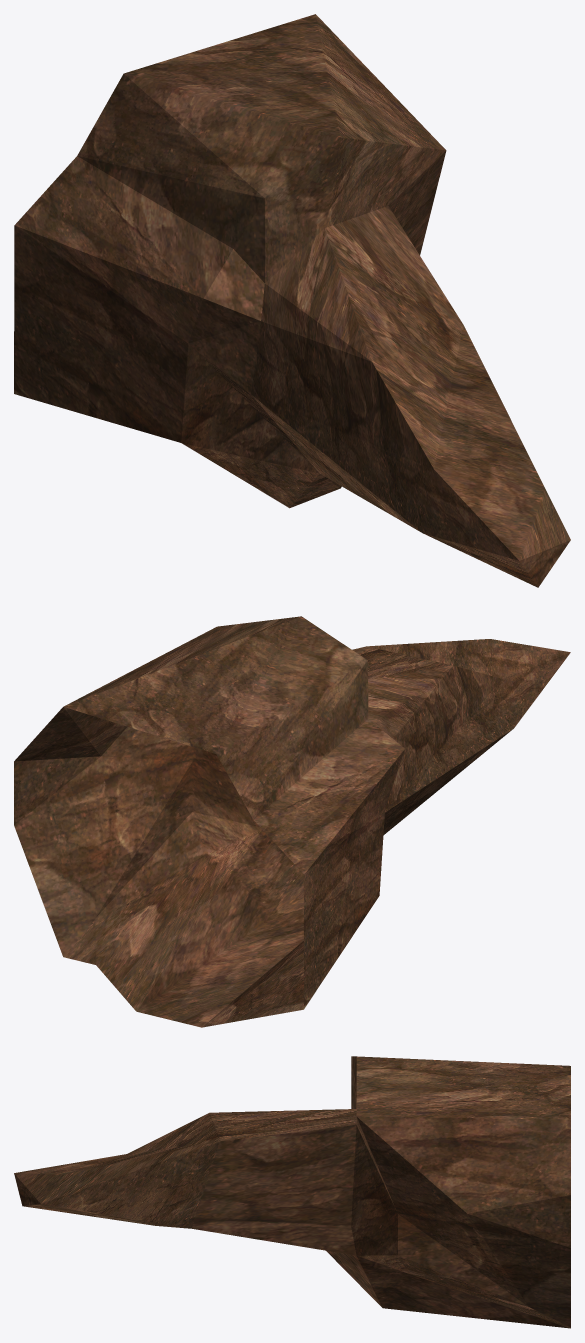
The model's file is huodong_fuben_365shibi07.obj.
The picture shows the model from 3 angles, top to bottom: view 1: azimuth 30°, elevation 25°; view 2: azimuth 150°, elevation 25°; view 3: azimuth 270°, elevation 25°; orthographic projection. The views are drawn at different scales.
Parts seen in each view (by area): view 1: huodong_fuben_365shibi07; view 2: huodong_fuben_365shibi07; view 3: huodong_fuben_365shibi07.
Part boxes in pixels (x1,y1,x2,y2): huodong_fuben_365shibi07: [14, 14, 570, 587]; huodong_fuben_365shibi07: [14, 616, 570, 1027]; huodong_fuben_365shibi07: [14, 1056, 570, 1328].
Bounding box in the file's own units: 82.99 × 84.75 × 166.
1 material, 1 textured.
